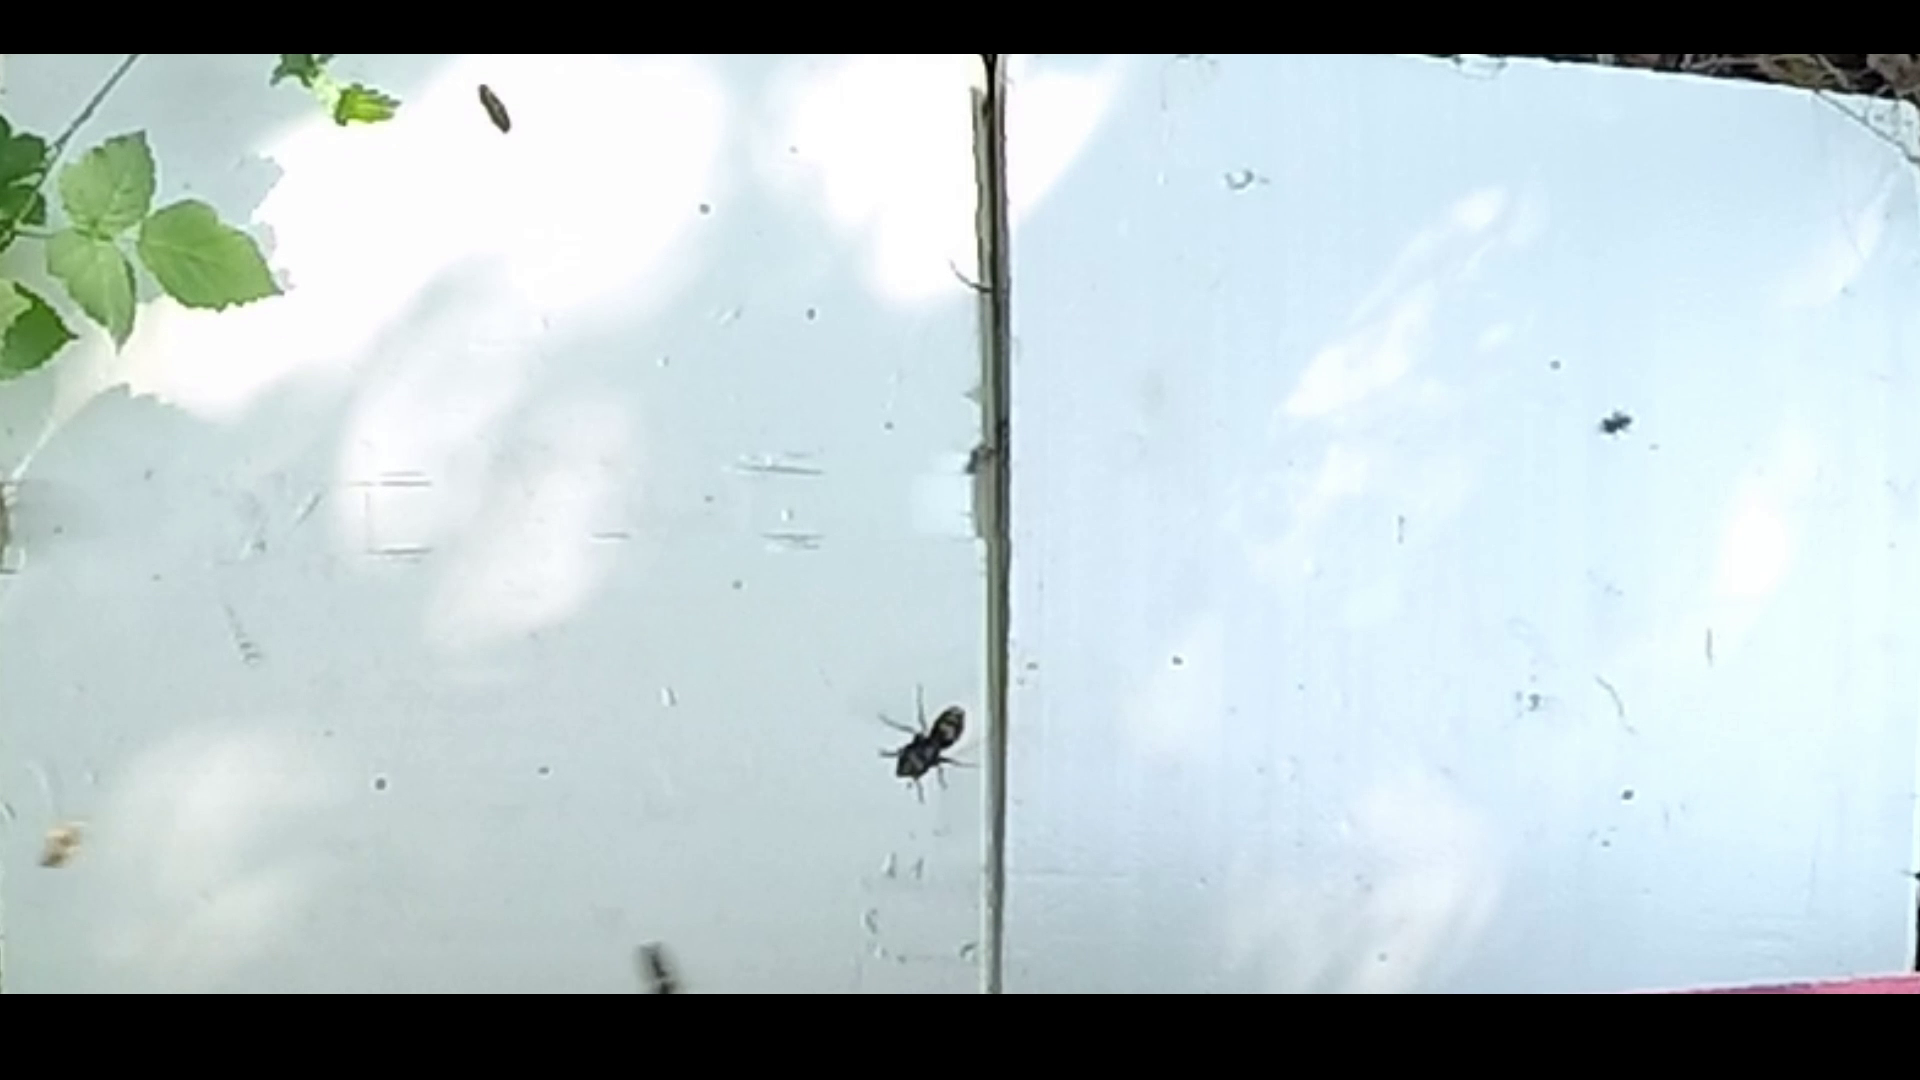Asian_hornets: (862, 675, 996, 815)
